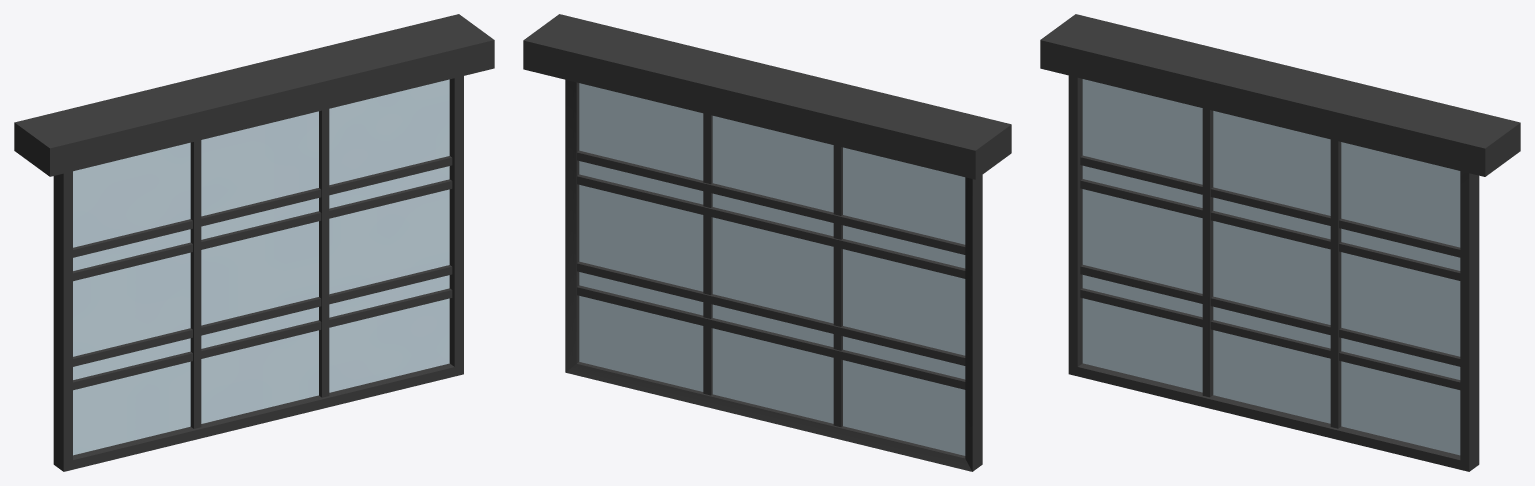
Rendered from window_026.fbx.
The picture shows the model from 3 angles, left to right: view 1: azimuth 30°, elevation 25°; view 2: azimuth 150°, elevation 25°; view 3: azimuth 330°, elevation 25°; orthographic projection.
Parts seen in each view (by area): view 1: window_026; view 2: window_026; view 3: window_026.
Part boxes in pixels (x1=…): window_026: x1=14, y1=14, x2=494, y2=471; window_026: x1=523, y1=14, x2=1011, y2=471; window_026: x1=1040, y1=14, x2=1520, y2=471.
Bounding box in the file's own units: 343 × 47.45 × 246.
